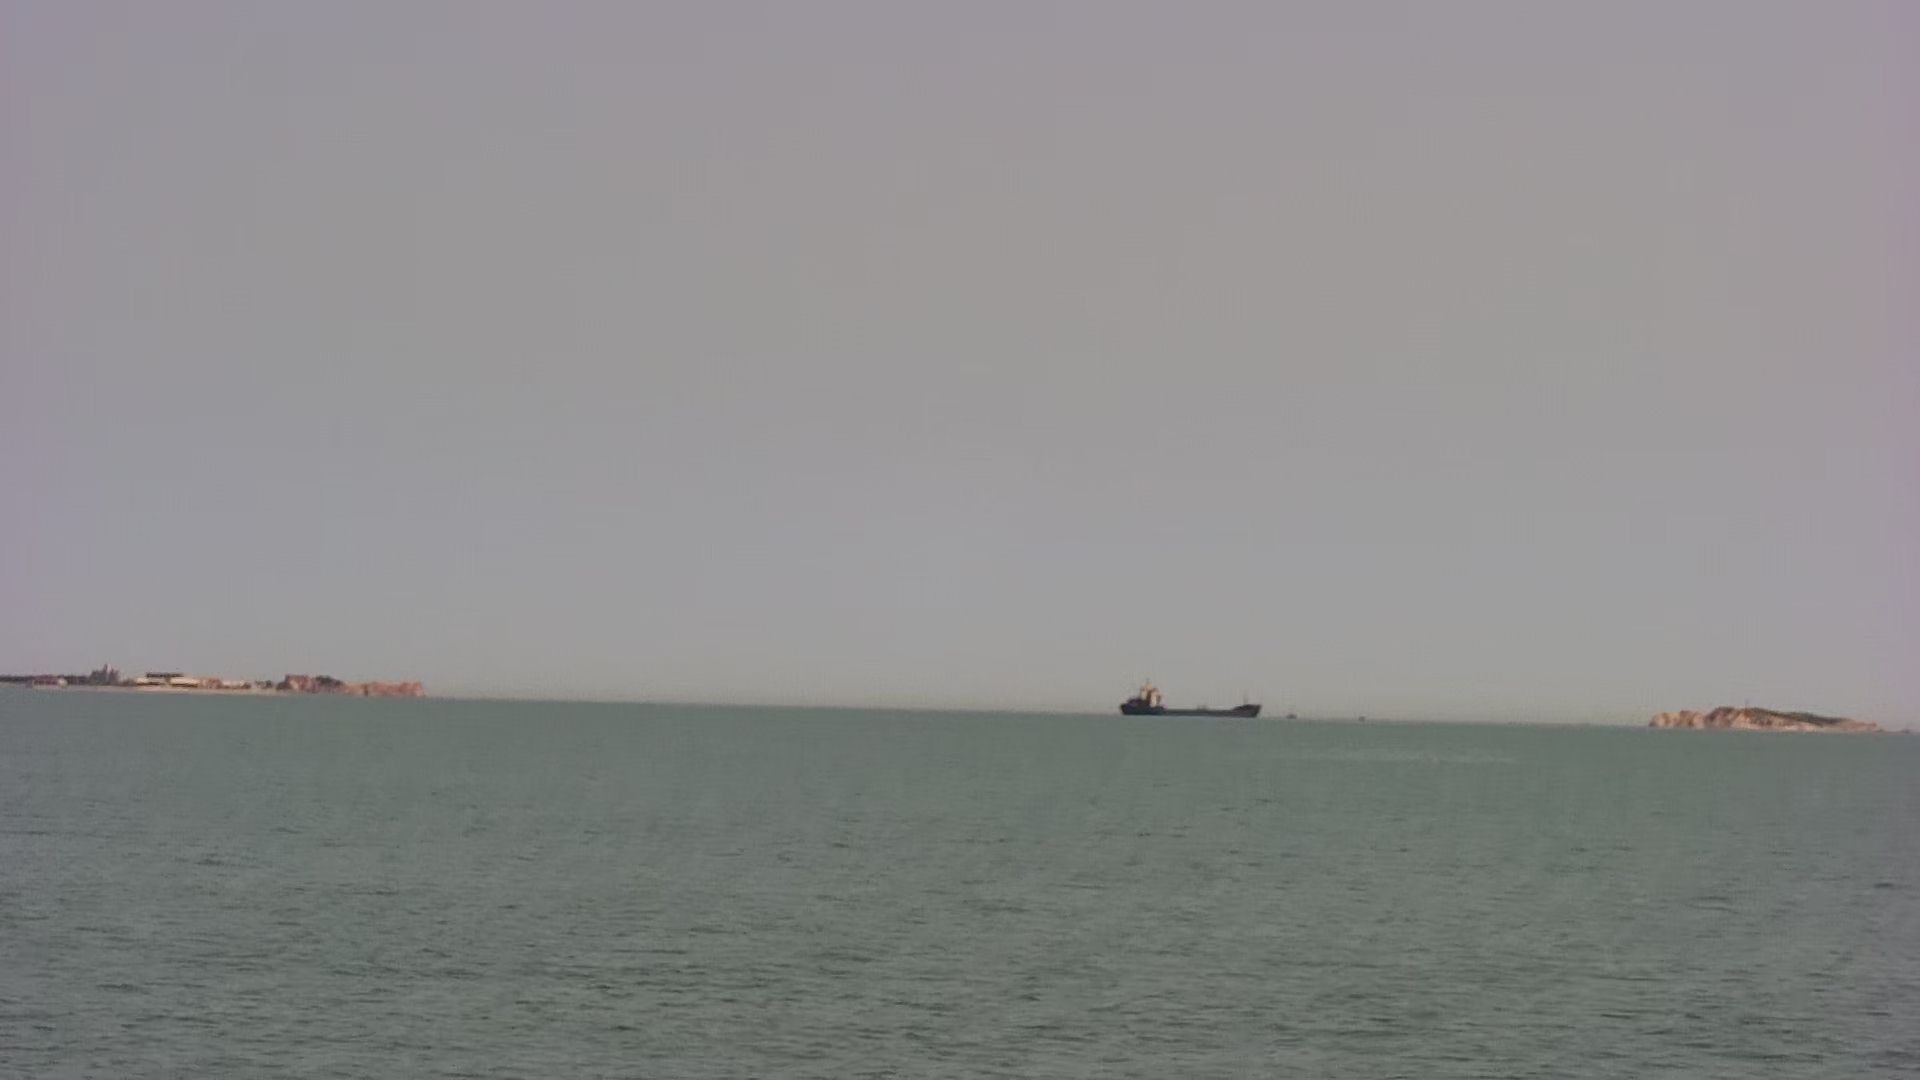rock: (3, 663, 436, 702), (1644, 702, 1899, 738)
ship: (1118, 674, 1270, 723)
